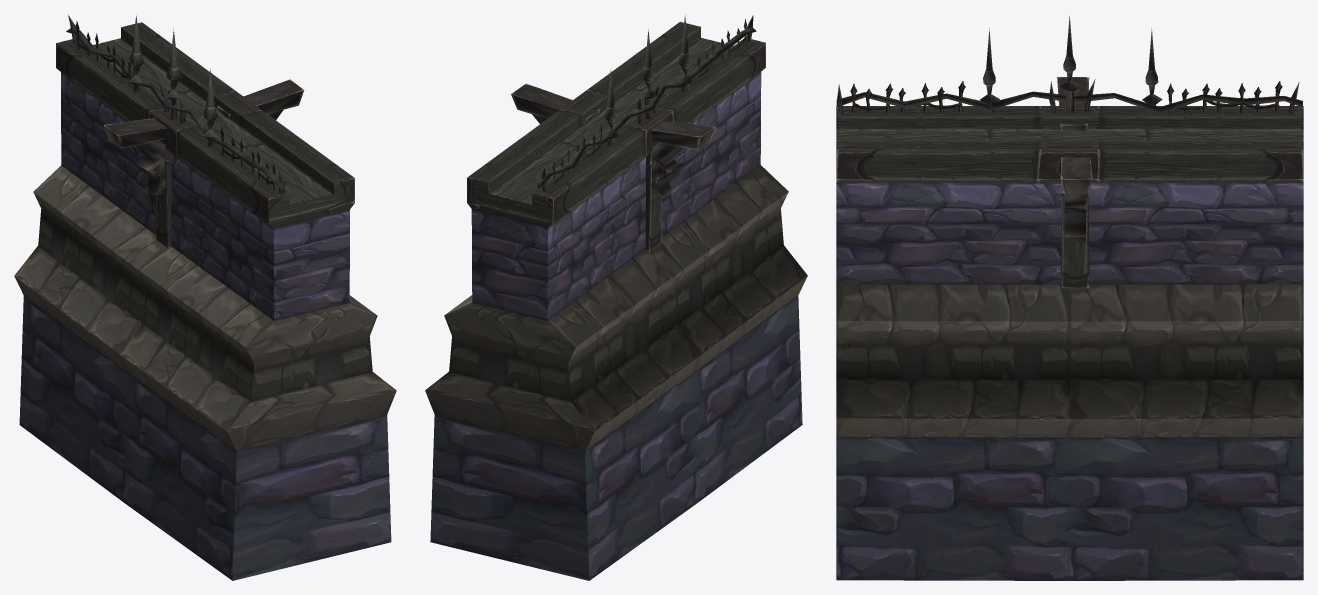
The model's file is nd_forsaken_wall.obj.
3 renders of one model, left to right at view 1: azimuth 30°, elevation 25°; view 2: azimuth 150°, elevation 25°; view 3: azimuth 270°, elevation 25°, orthographic. The views are drawn at different scales.
Visible parts, largest first — view 1: wall; view 2: wall; view 3: wall.
Boxes of the visible parts, <box> form: wall: <box>14,15,396,580</box>; wall: <box>425,15,807,580</box>; wall: <box>836,16,1303,580</box>.
Size of the model in its own units: 18.22 by 42.72 by 35.68.
Materials: 7 (7 with a texture image).
